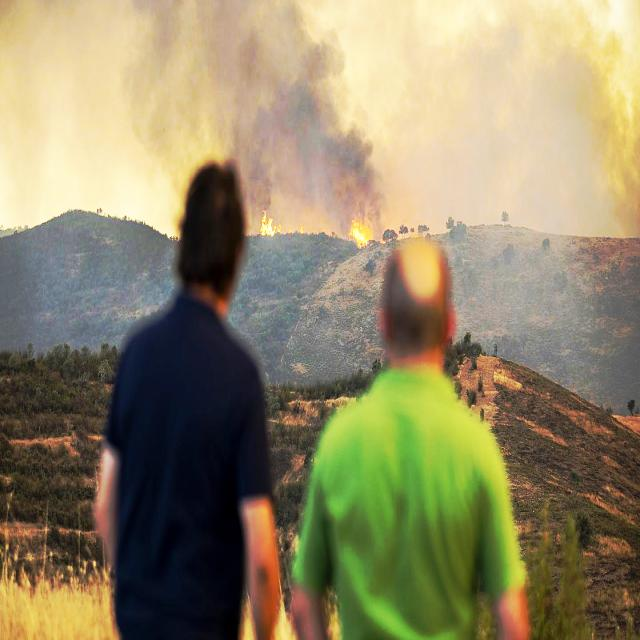api: (350, 219, 374, 250), (257, 213, 283, 237)
asap: (120, 4, 639, 162), (419, 154, 640, 237), (242, 160, 403, 217)
